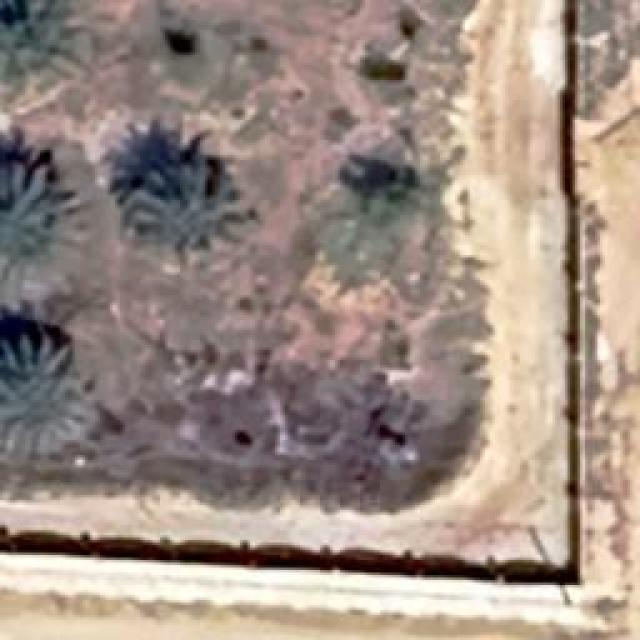PalmTree: (130, 150, 252, 248), (0, 325, 88, 450), (0, 0, 68, 105), (0, 152, 55, 278)
